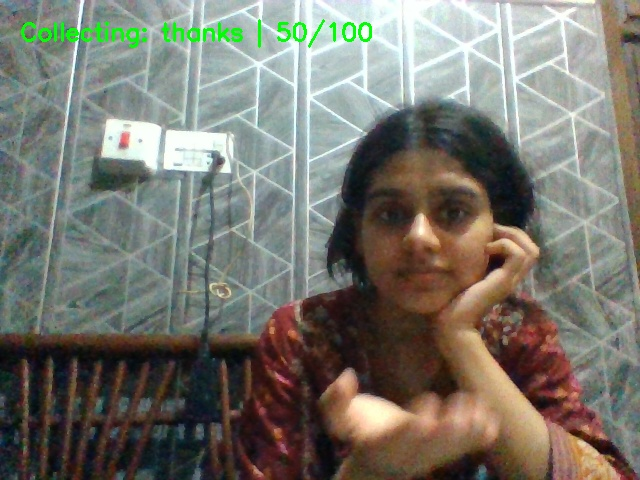thanks: (314, 351, 516, 480)
